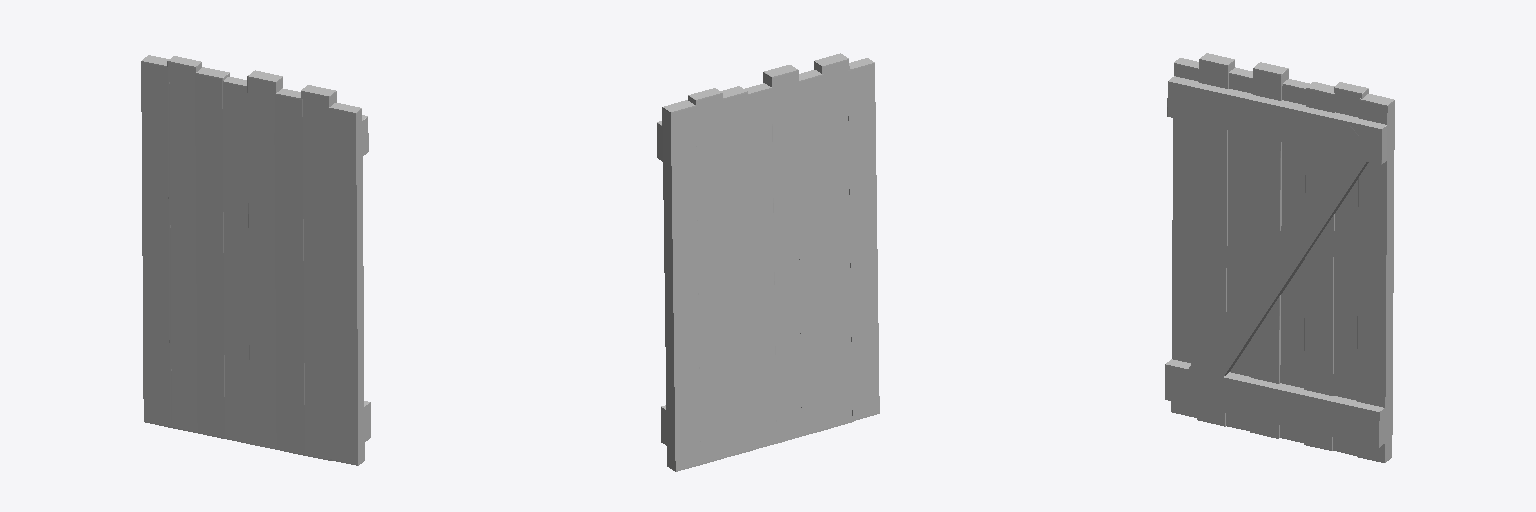
Rendered from PestabloDer.obj.
3 views of the same model, side by side, from view 1: azimuth 90°, elevation 25°; view 2: azimuth 150°, elevation 25°; view 3: azimuth 270°, elevation 25° (orthographic).
Parts seen in each view (by area): view 1: polySurface1903; view 2: polySurface1903; view 3: polySurface1903.
Boxes of the visible parts, box(x1,y1,x2,y2) form: polySurface1903: box(141, 55, 370, 465); polySurface1903: box(657, 53, 879, 471); polySurface1903: box(1165, 53, 1394, 462).
Bounding box in the file's own units: 0.1925 × 0.5592 × 0.3165.